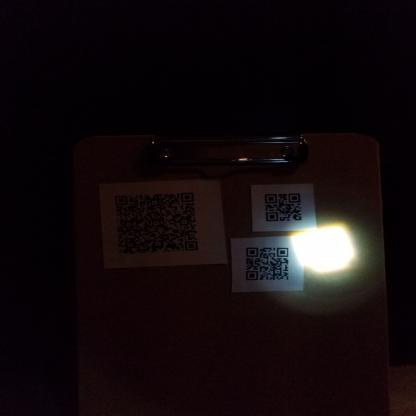qr: (111, 191, 202, 256), (240, 244, 293, 285), (260, 189, 305, 224)
